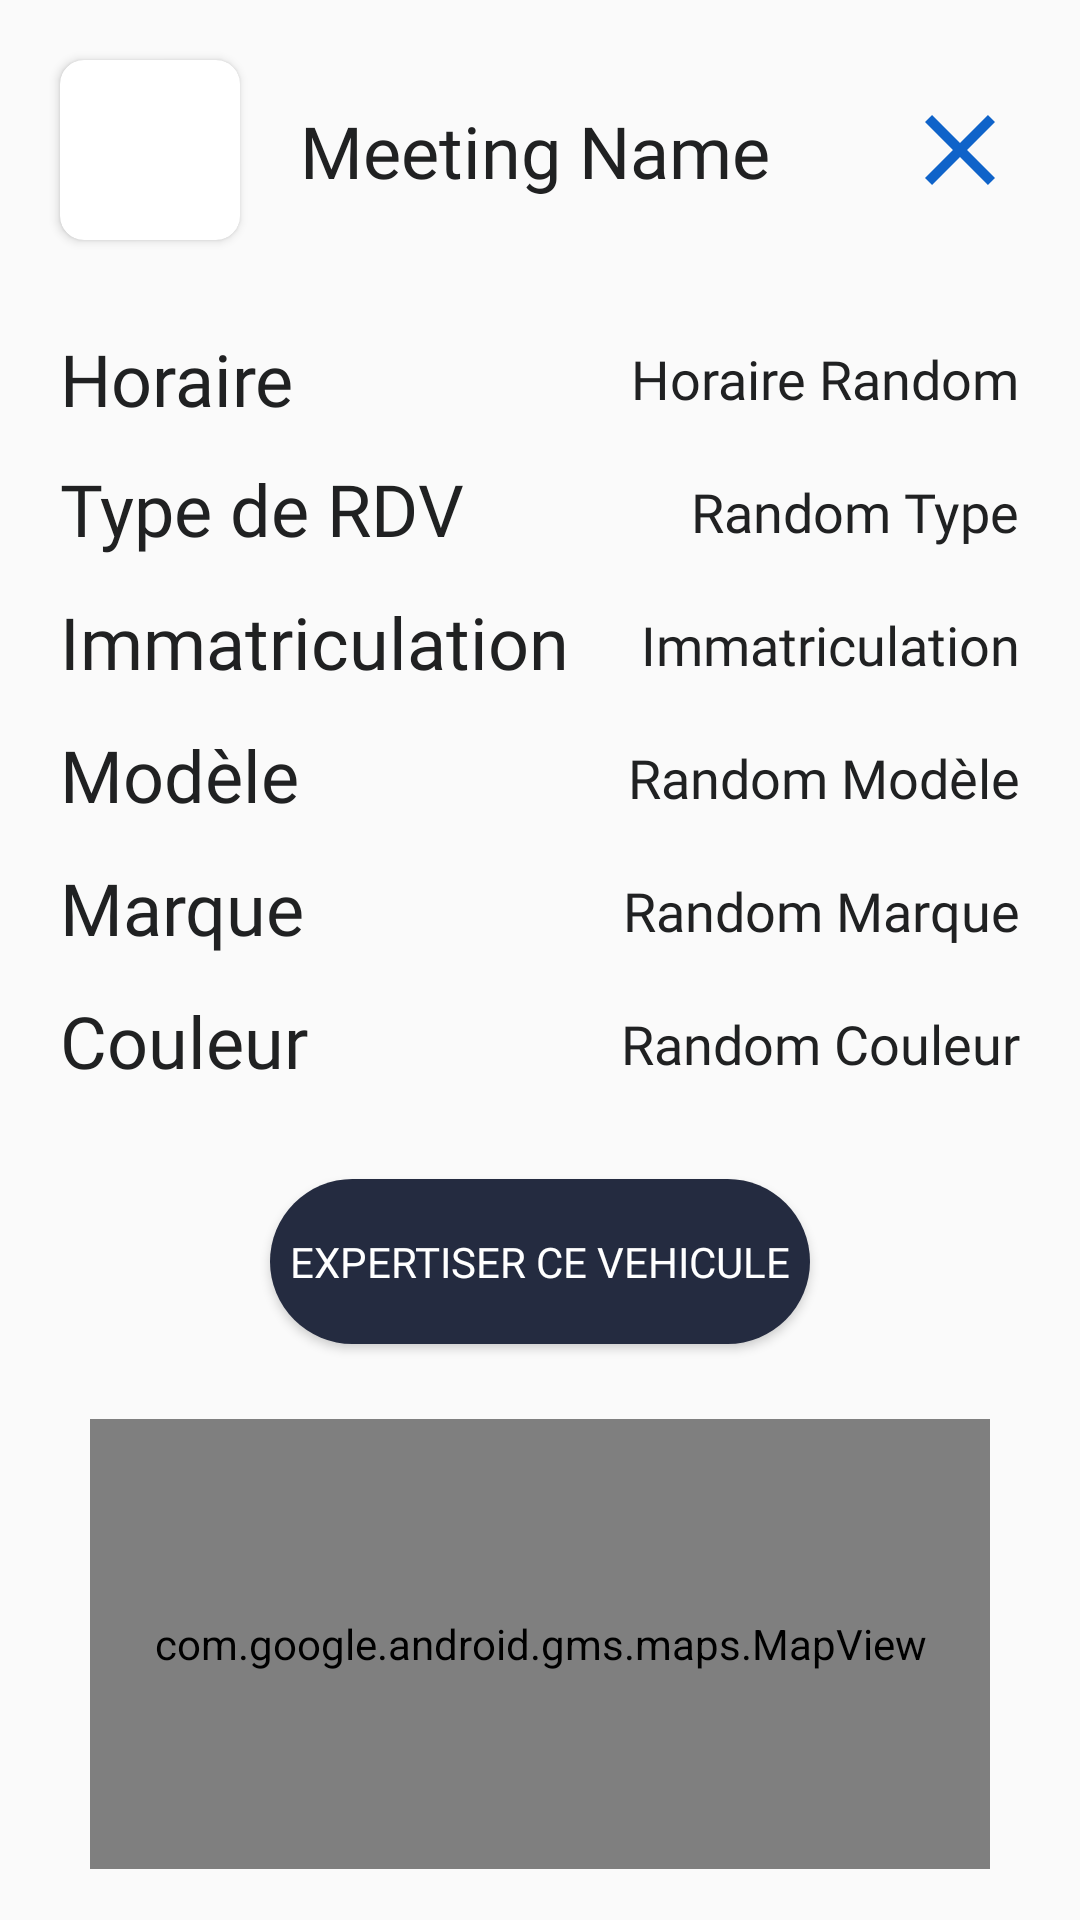

Icon bounding boxes for this 1080w x 1920h phone screenshot, format BBox(x1, y1, x2, y2):
close button: BBox(925, 115, 995, 185)
